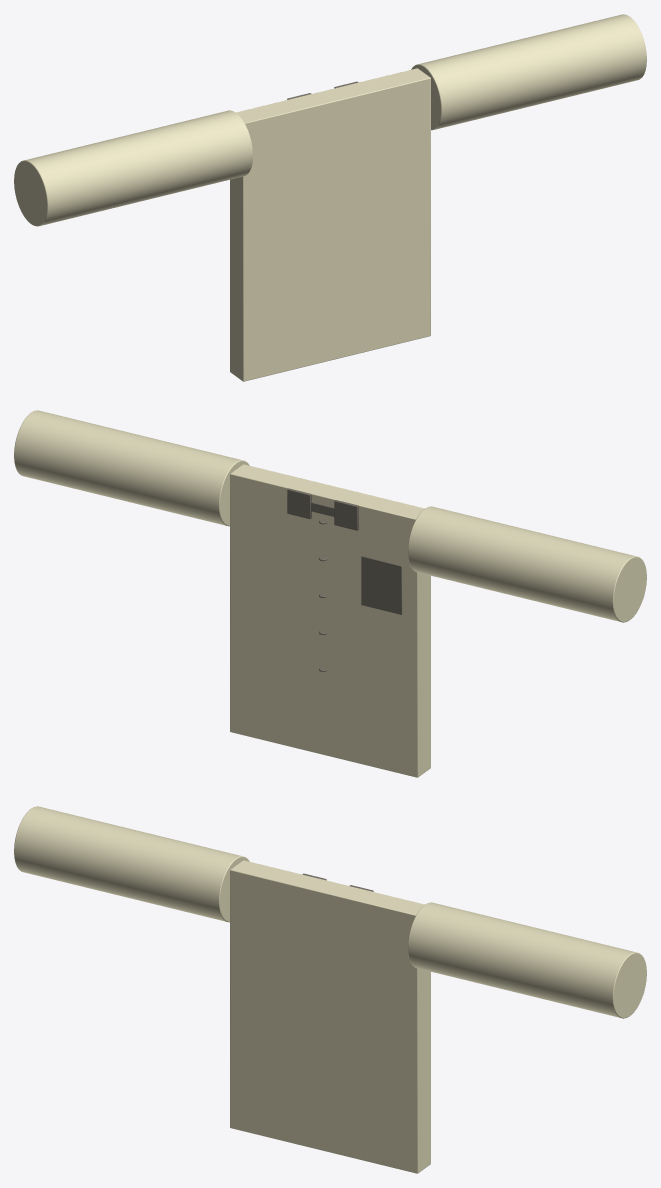
The model's file is SM_COS_SHIRT_BUTTONUP.fbx.
The picture shows the model from 3 angles, top to bottom: view 1: azimuth 30°, elevation 25°; view 2: azimuth 150°, elevation 25°; view 3: azimuth 330°, elevation 25°; orthographic projection.
Parts seen in each view (by area): view 1: SM_COS_SHIRT_BUTTONUP; view 2: SM_COS_SHIRT_BUTTONUP; view 3: SM_COS_SHIRT_BUTTONUP.
Part boxes in pixels (x1,y1,x2,y2): SM_COS_SHIRT_BUTTONUP: [14, 14, 646, 381]; SM_COS_SHIRT_BUTTONUP: [14, 410, 646, 777]; SM_COS_SHIRT_BUTTONUP: [14, 806, 646, 1173].
Size of what is drawn, in the model's own units: 1.02 by 0.43 by 0.1.
